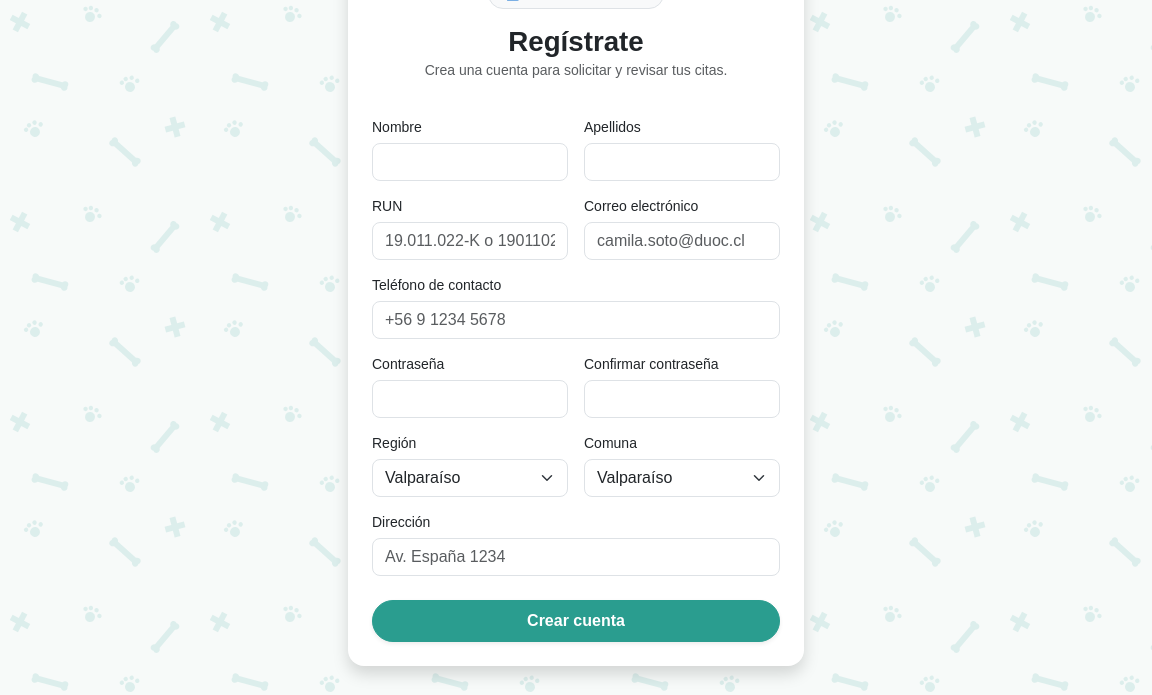
Test: RegisterForm › impide crear una cuenta con los campos obligatorios vacíos
(page scrolled)
Click the button "Crear cuenta": click(576, 621) [372,600,780,642]
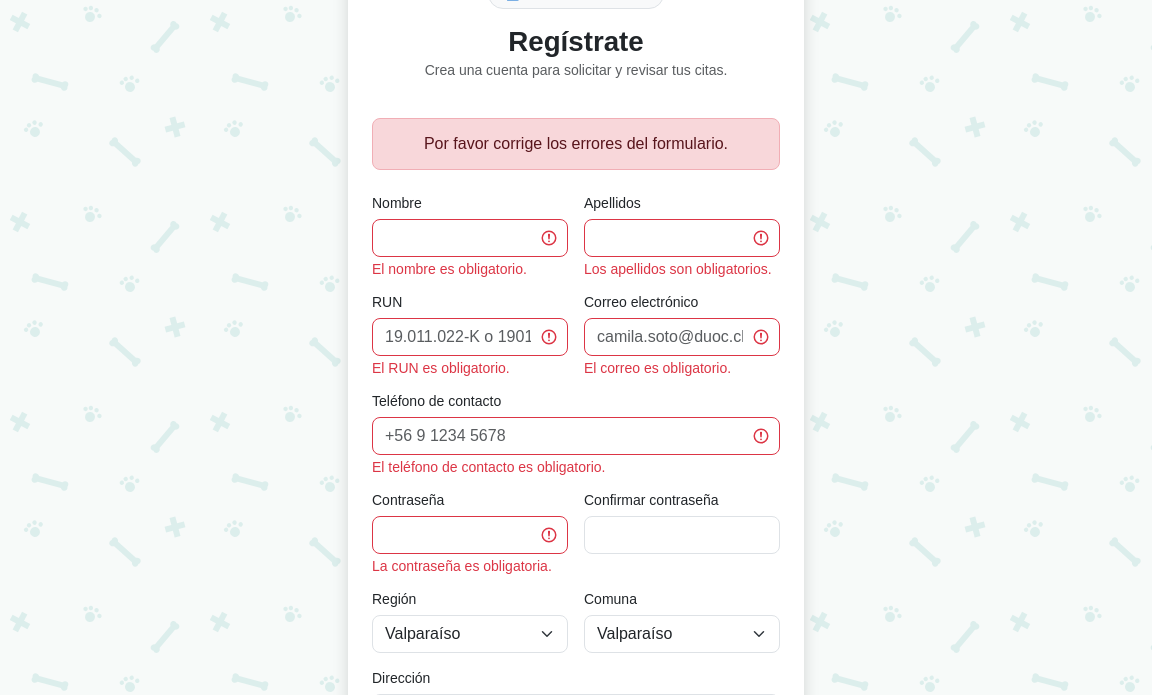
Expected: the text "El RUN es obligatorio." is shown, [372,360,510,376]
Expected: the text "El correo es obligatorio." is shown, [584,360,731,376]
